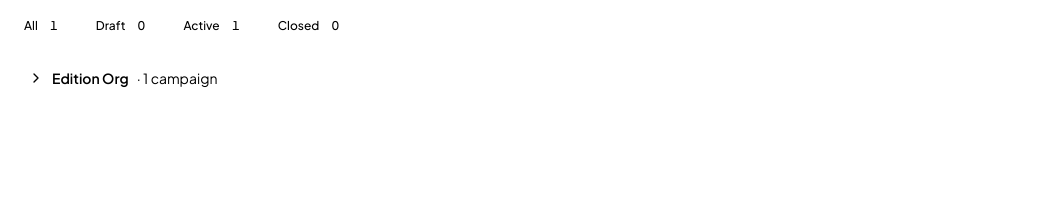
Scenario: CampaignsListWithFilter — edition standing › shows persistent edition identity without a positive current badge
Click the button "Edition Org · 1 campaign": (90, 78) [12,56,1036,100]
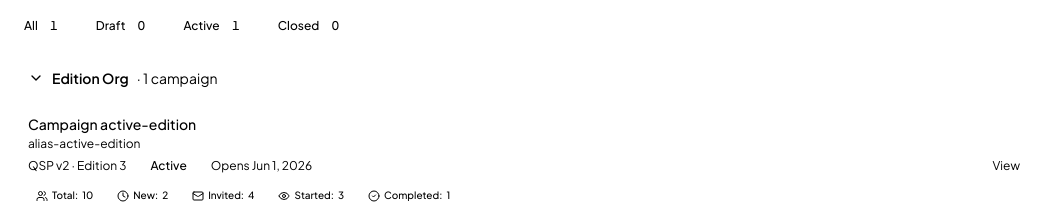
Check: the element with test id "campaign-edition-identity-active-edition" reads "QSP v2 · Edition 3", box [28,158,126,174]
